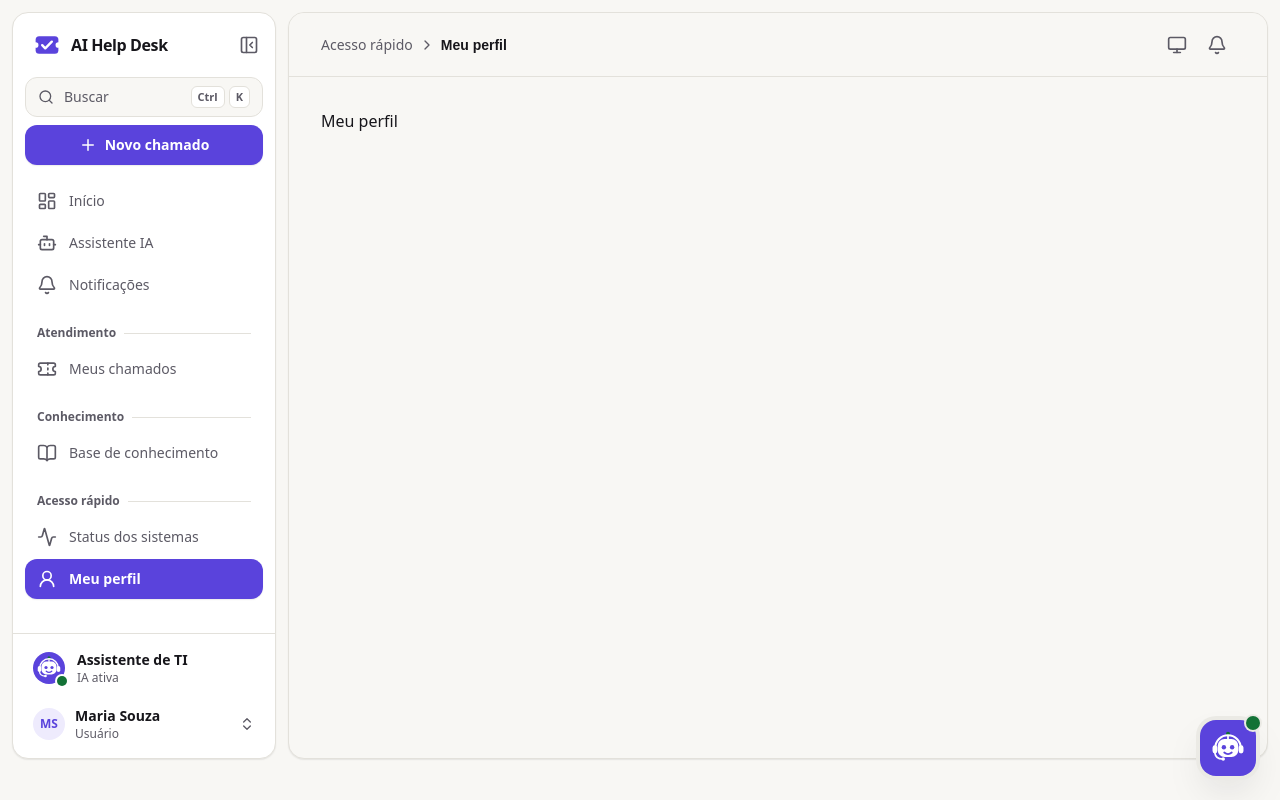
Test: AppLayout › abre a busca com Ctrl+K e navega pelo teclado
The image size is (1280, 800).
Check: the heading "Meu perfil" is shown, box left=321, top=110, right=398, bottom=132
Type keys "{Control>}k{/Control}"
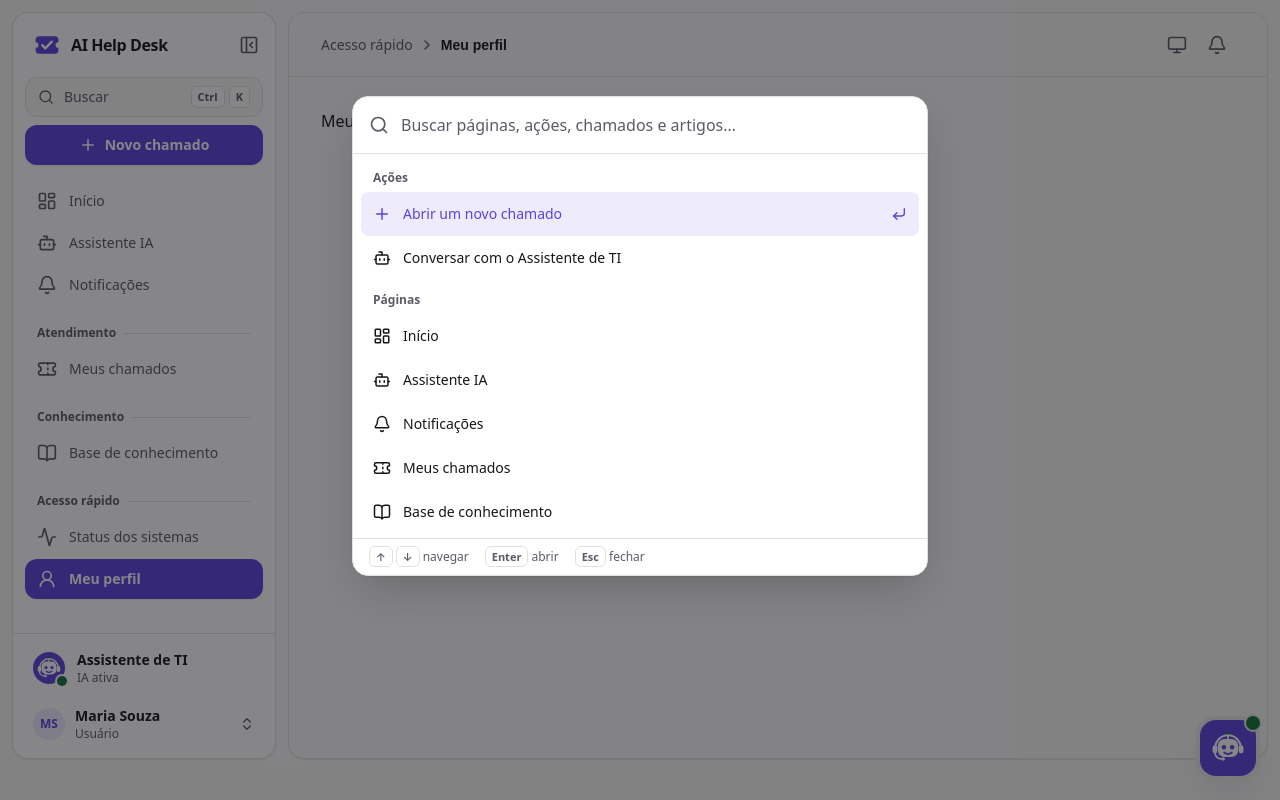
In the dropdown: (656, 125) left=401, top=97, right=911, bottom=153, type "notific"
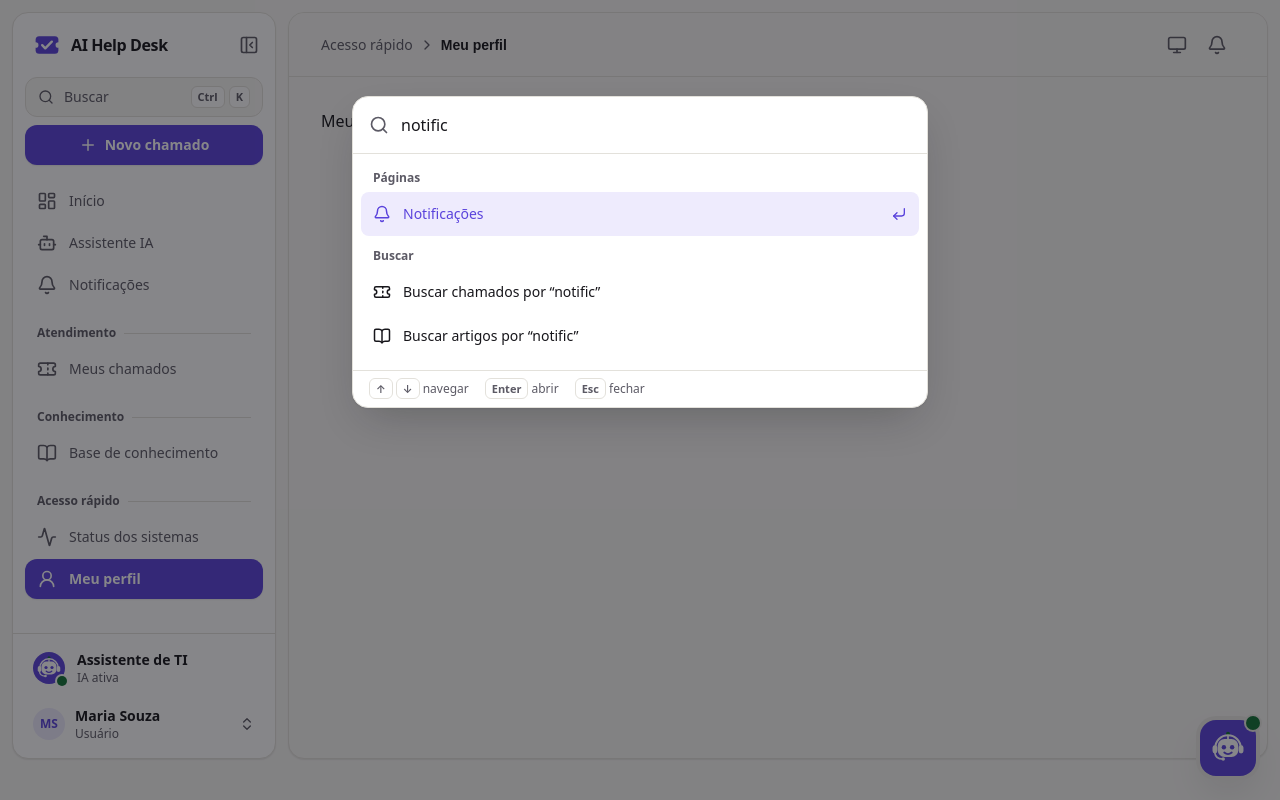
Check: the option "Notificações" is selected, box left=361, top=192, right=919, bottom=236
Press Enter
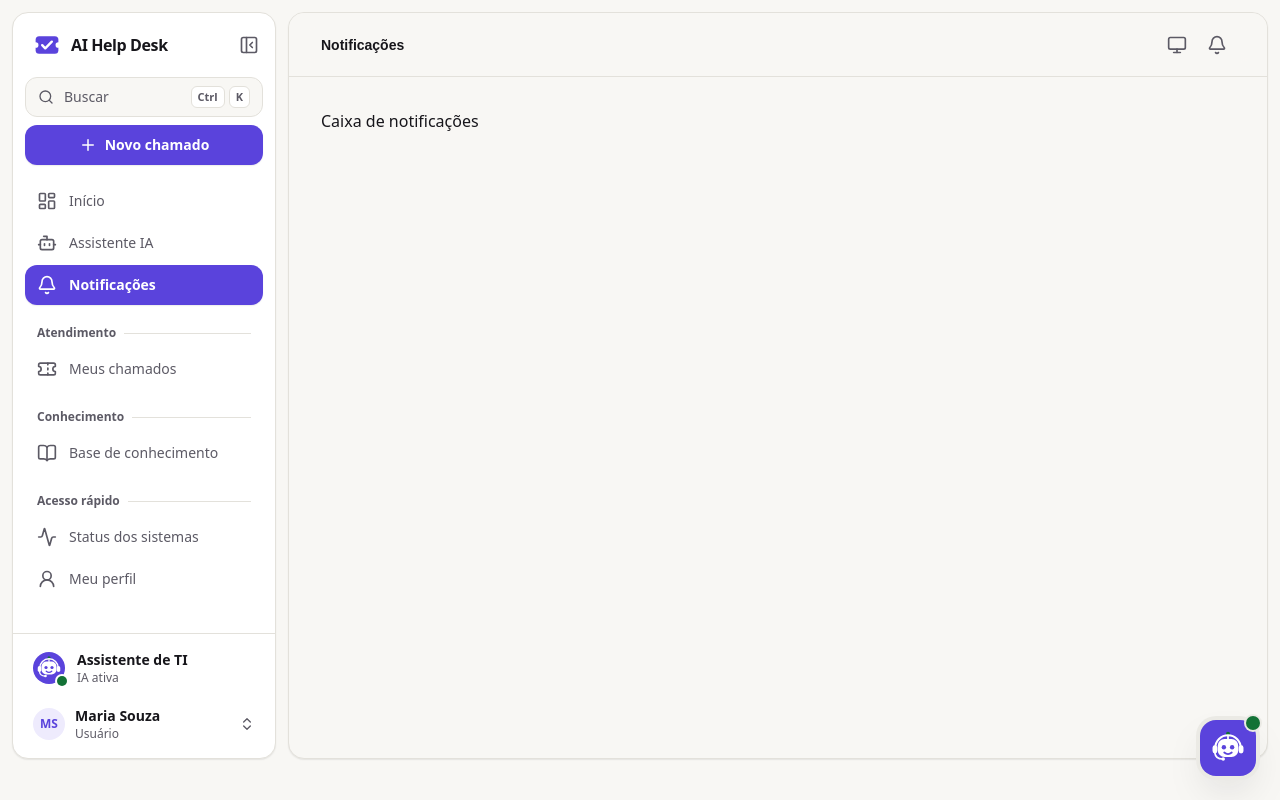
Check: the heading "Caixa de notificações" is shown, box left=321, top=110, right=479, bottom=132
Check: the dialog is gone
